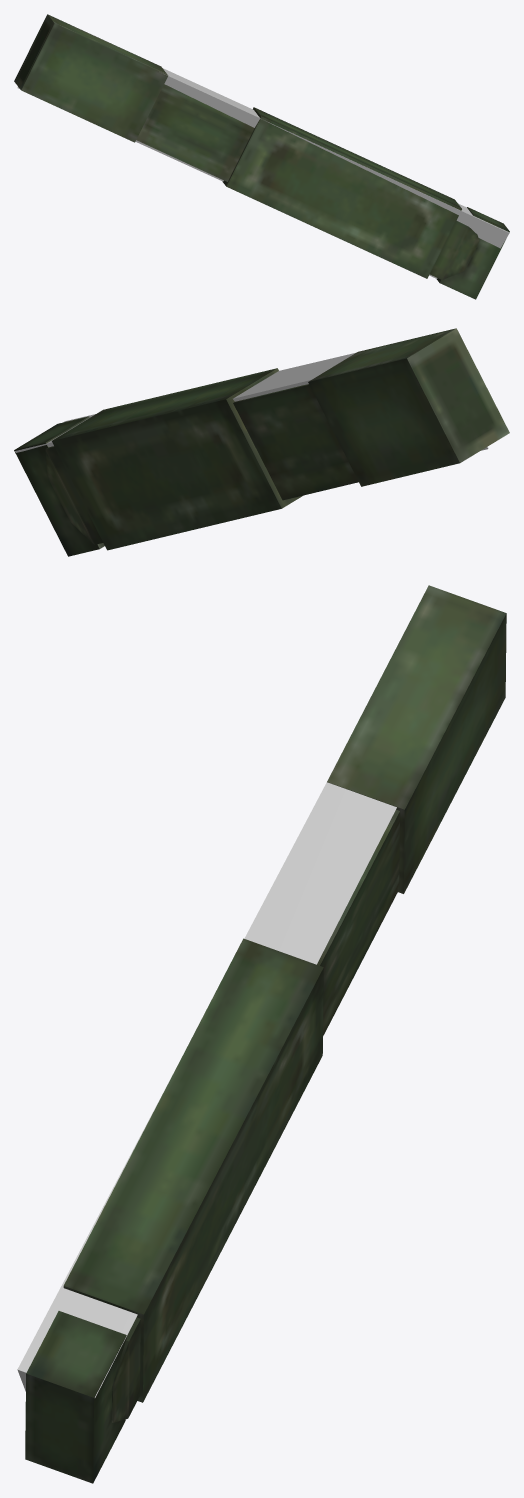
3 views of the same model, one above another, from view 1: azimuth 30°, elevation 25°; view 2: azimuth 150°, elevation 25°; view 3: azimuth 270°, elevation 25° (orthographic). The views are drawn at different scales.
Visible parts, largest first — view 1: surface_000, surface_001; view 2: surface_000, surface_001; view 3: surface_000, surface_001.
Boxes of the visible parts, x1,y1,x2,y2 form: surface_000: (14,14,509,299); surface_001: (17,68,509,278); surface_000: (14,328,509,556); surface_001: (15,353,488,452); surface_000: (25,585,506,1483); surface_001: (17,782,396,1398).
Size of the model in its own units: 27.71 by 19.08 by 14.71.
